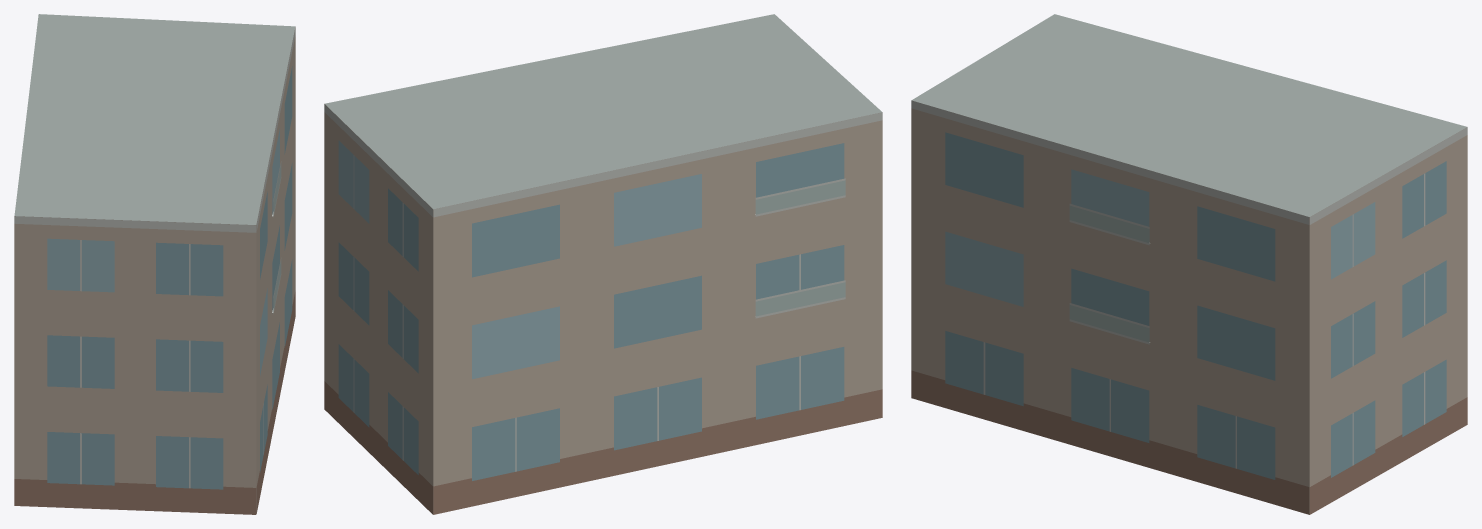
Rendered from survey-upis-32751250.glb.
The picture shows the model from 3 angles, left to right: view 1: azimuth 30°, elevation 25°; view 2: azimuth 150°, elevation 25°; view 3: azimuth 270°, elevation 25°; orthographic projection. The views are drawn at different scales.
Parts seen in each view (by area): view 1: survey-upis-32751250.tmp; view 2: survey-upis-32751250.tmp; view 3: survey-upis-32751250.tmp.
Part boxes in pixels (bbox=[...]): survey-upis-32751250.tmp: bbox=[14, 14, 295, 514]; survey-upis-32751250.tmp: bbox=[324, 14, 882, 514]; survey-upis-32751250.tmp: bbox=[911, 14, 1467, 514].
Size of the model in its own units: 13.4 by 9.15 by 15.5.
